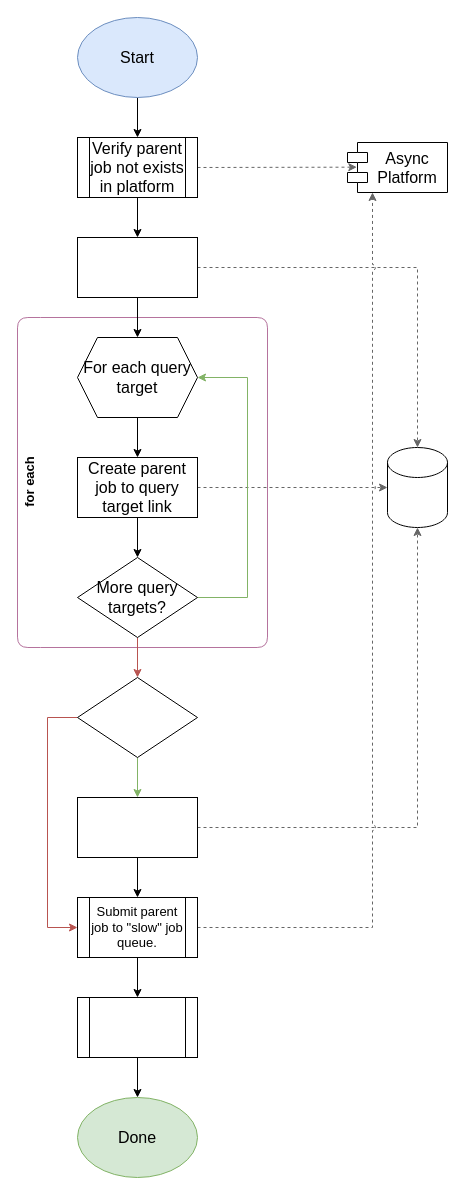
Image size: 465x1195. Some labels were removed from this diagram. The shapes that lost their labels are listed below. From the top down, each one's centre as x and y in pixels, then its label:
At point 137,267: "Create DB job record for parent job".
At point 417,487: "User DB".
At point 137,717: "Is `addToUserJobs` true?".
At point 137,827: "Create parent job to user link.".
At point 137,1027: "Handle child jobs".
